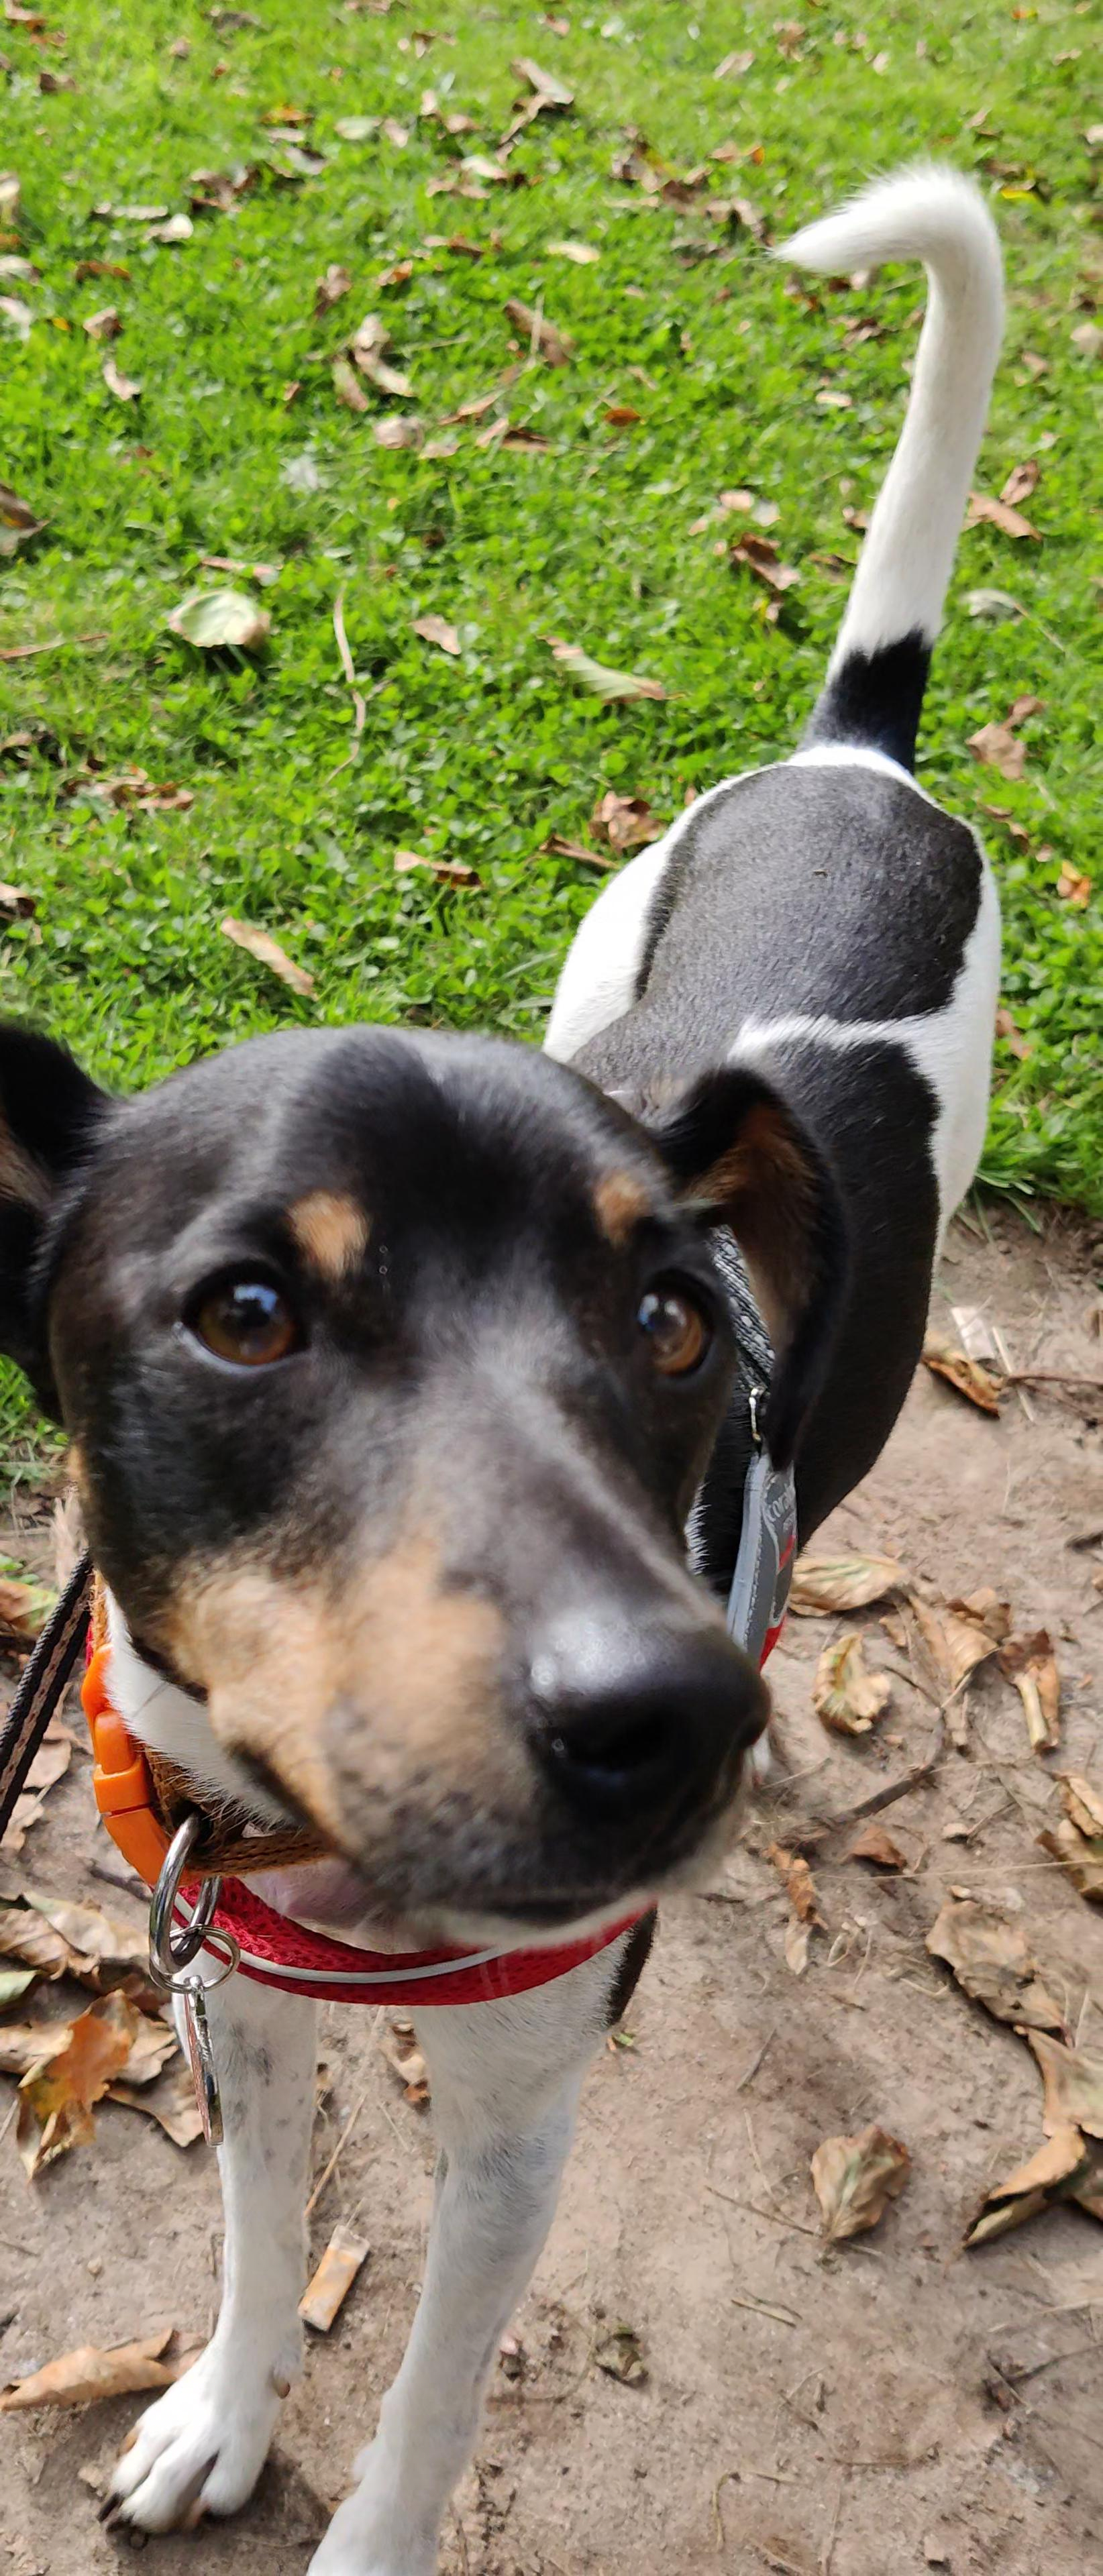Dog: (0, 149, 1011, 2576)
